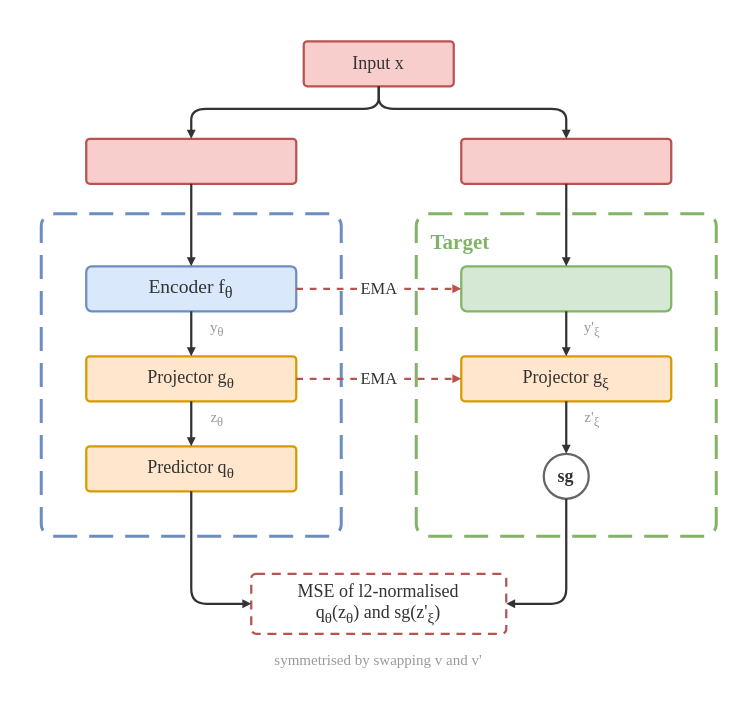
Some shapes in this 756 by 710 pixel diagram are drawn without their labels. Each missing label, with the box of its shape:
Encoder f ξ: (459, 264, 672, 312)
Online: (39, 212, 342, 537)
View v: (84, 137, 297, 184)
View v': (459, 137, 672, 184)
